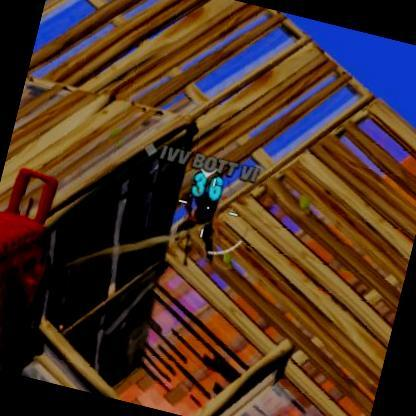person: (171, 180, 226, 262)
